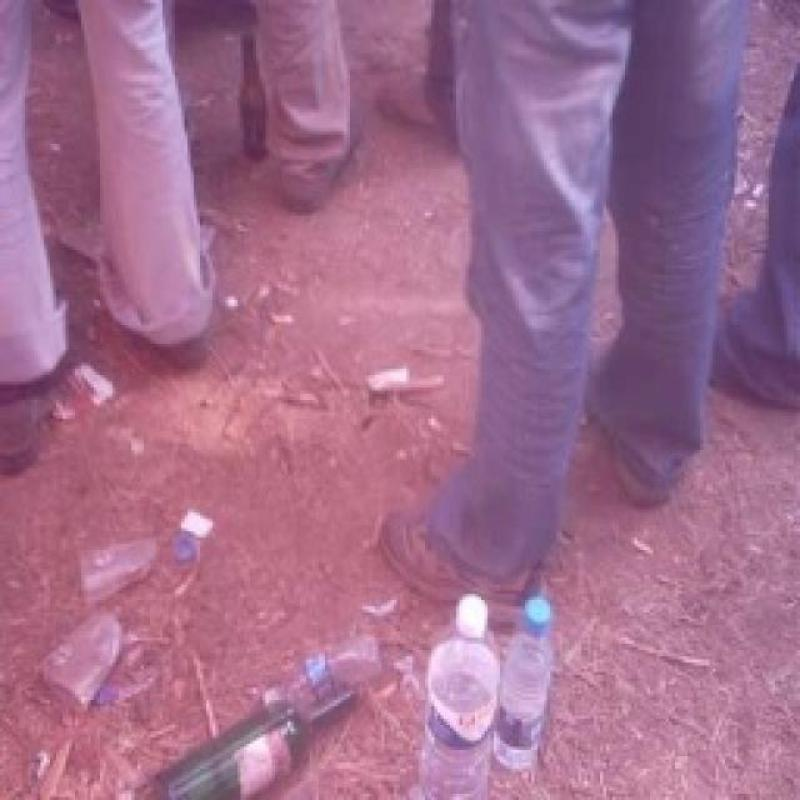botella: (420, 594, 495, 800), (498, 597, 558, 772)
